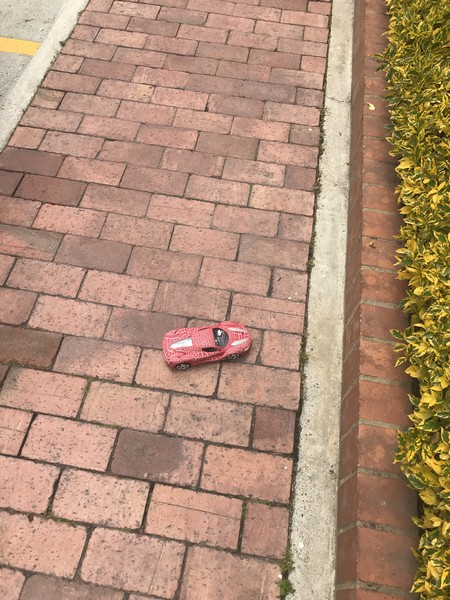RC: (160, 319, 252, 371)
